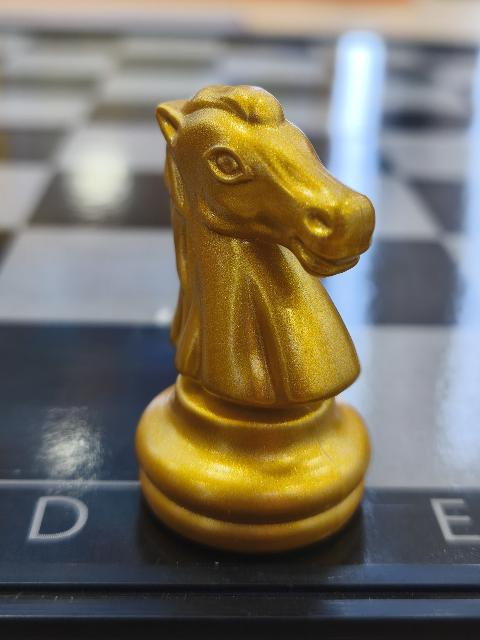black_knight: (135, 82, 376, 545)
